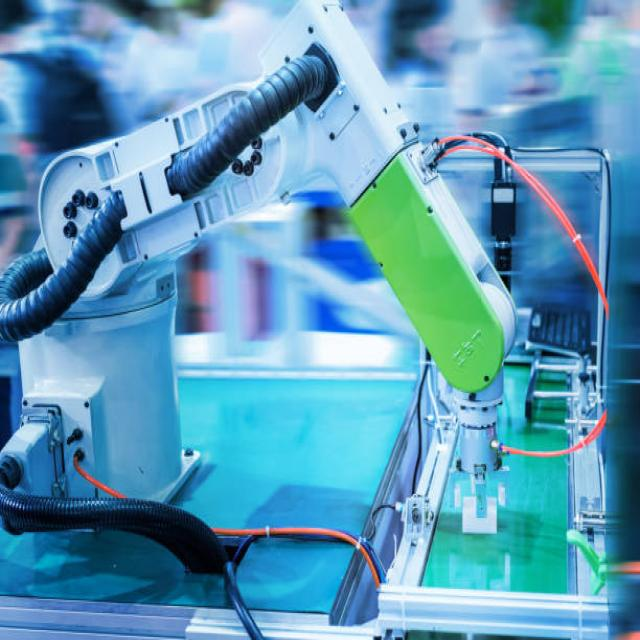Robotic-arm: (34, 0, 521, 406)
